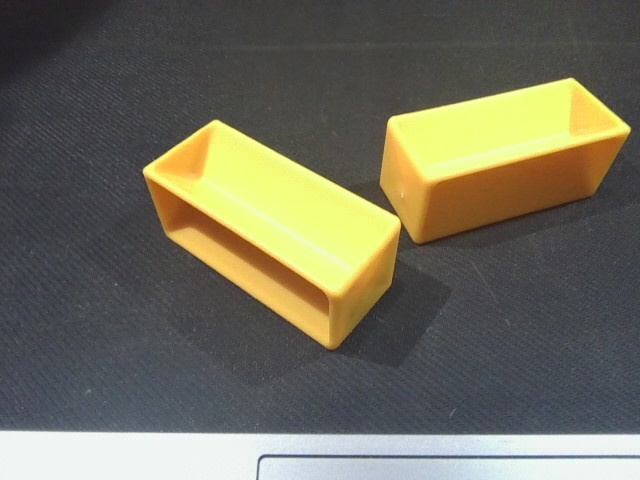YellowSample: (136, 117, 402, 356), (376, 76, 640, 246)
